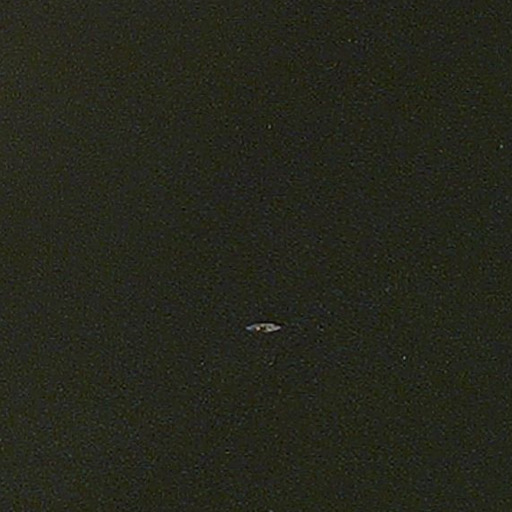ship: (243, 318, 284, 338)
